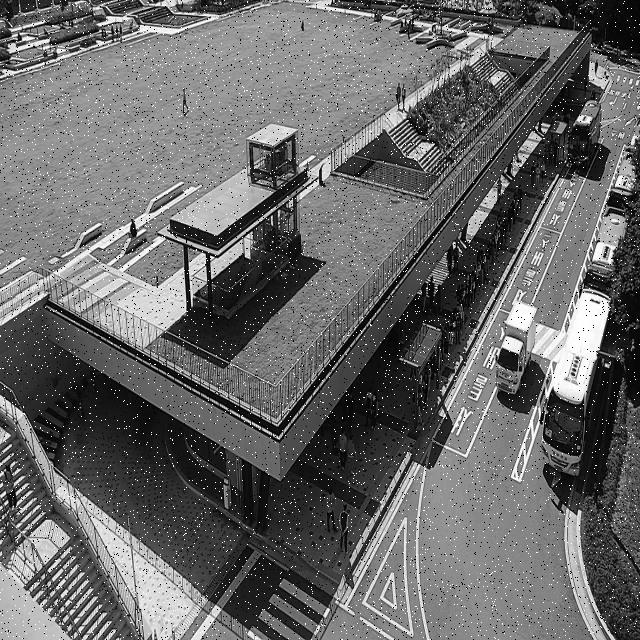queue: (417, 186, 523, 428)
